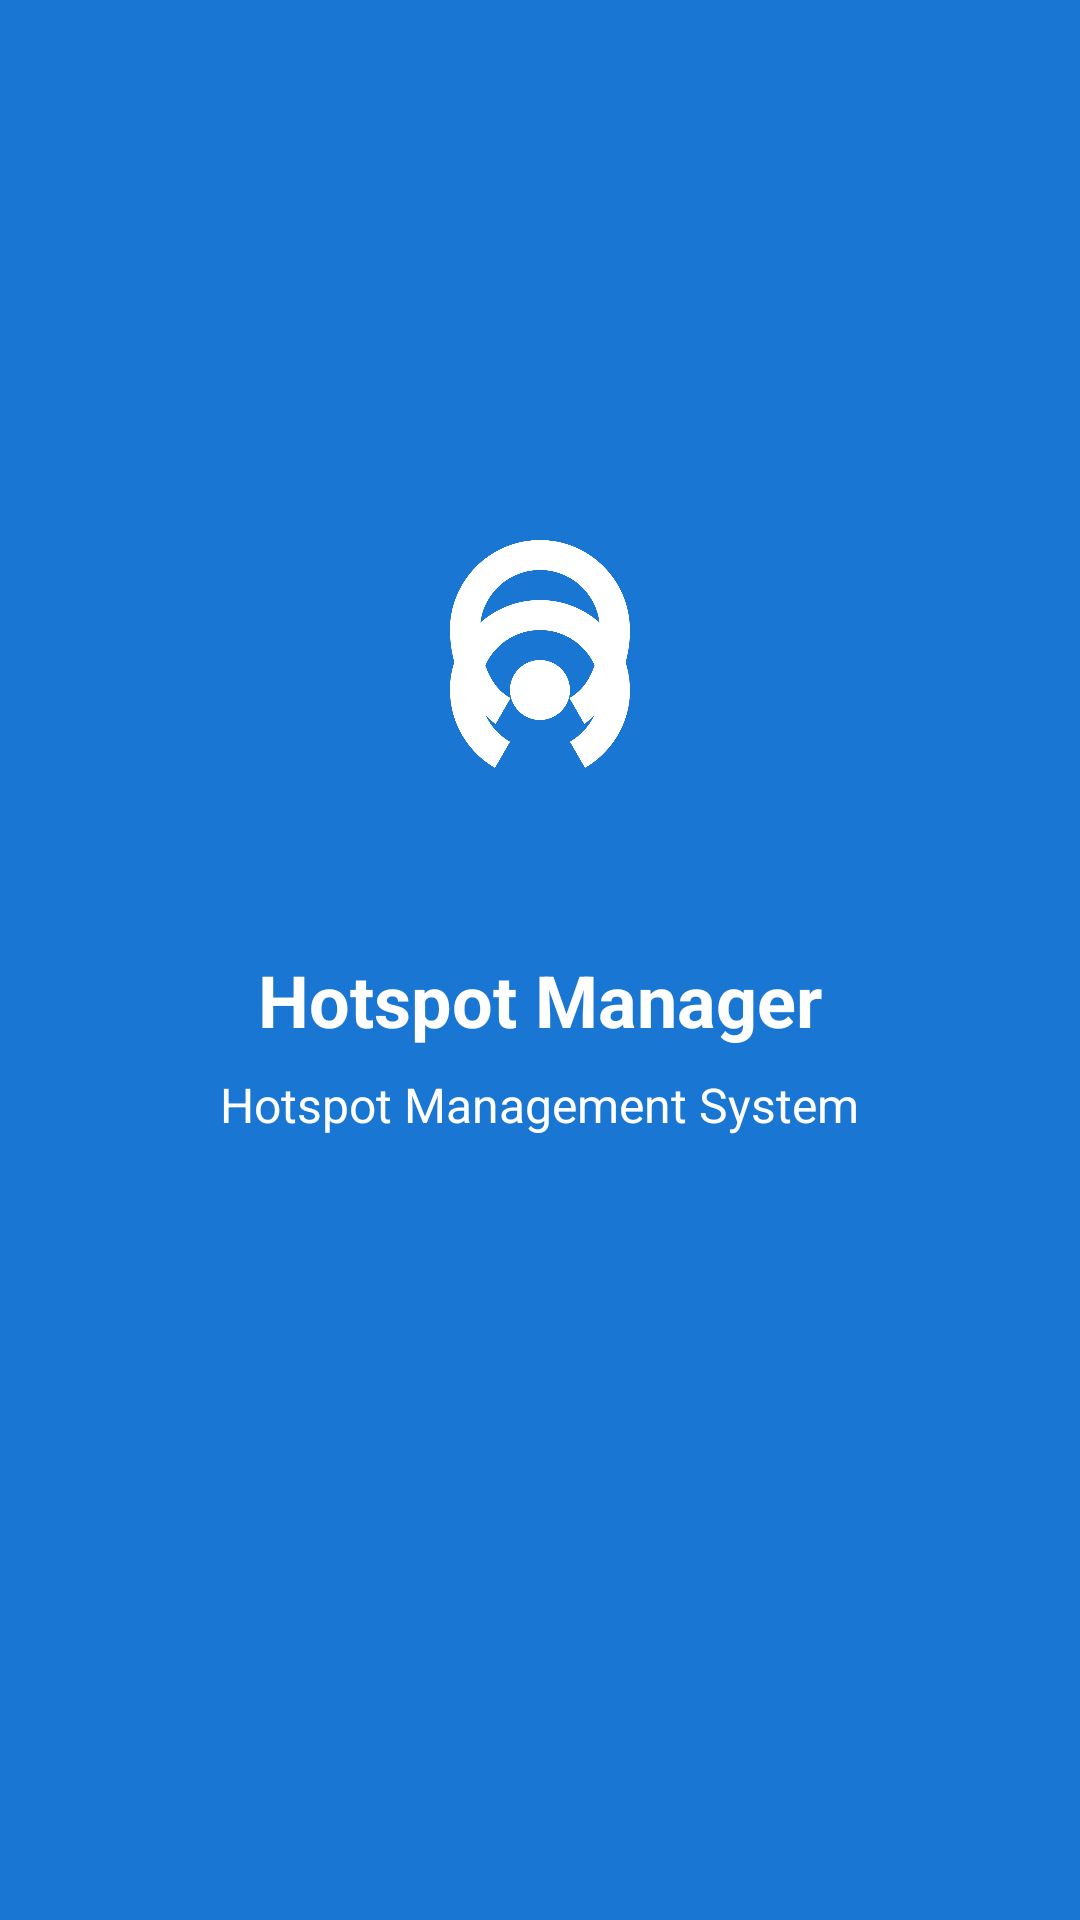

Named icons in this screenshot (1080×1920) and their centers, point (x, y):
wifi hotspot: point (540, 654)
